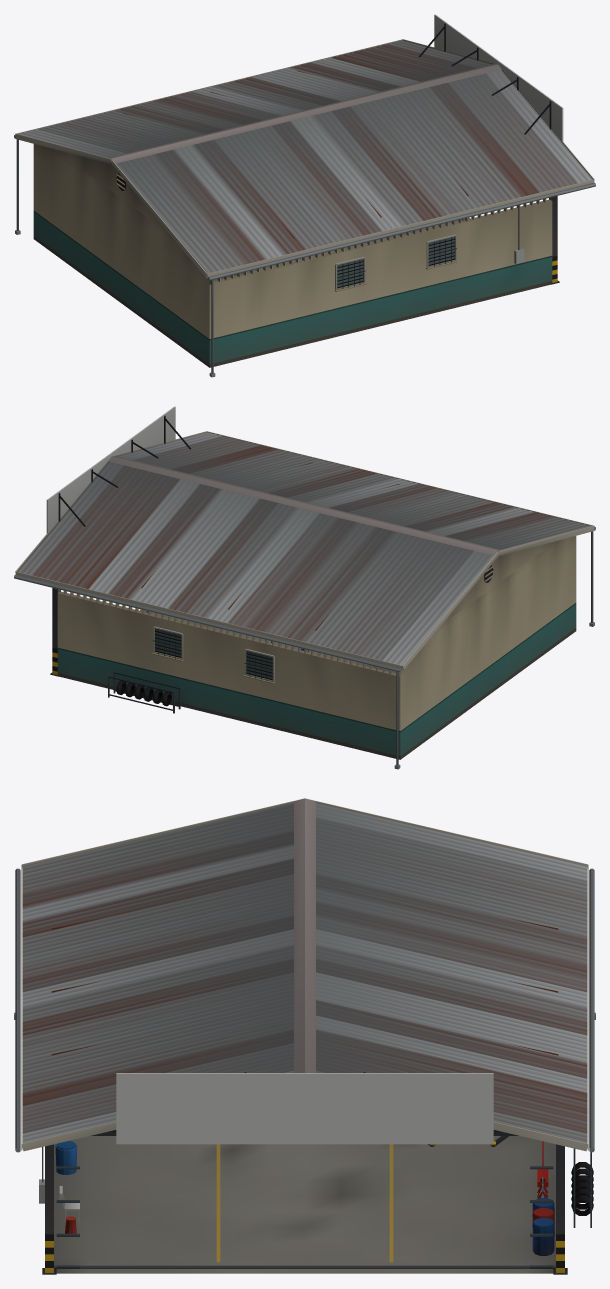
Rendered from kampung-baru-workshop.glb.
3 views of the same model, one above another, from view 1: azimuth 30°, elevation 25°; view 2: azimuth 150°, elevation 25°; view 3: azimuth 270°, elevation 25° (orthographic). The views are drawn at different scales.
Parts seen in each view (by area): view 1: bengkel; view 2: bengkel; view 3: bengkel.
Boxes of the visible parts, x1=… form: bengkel: x1=14, y1=14, x2=595, y2=377; bengkel: x1=14, y1=406, x2=595, y2=769; bengkel: x1=14, y1=798, x2=595, y2=1274.
Bounding box in the file's own units: 17.85 × 6.6 × 15.66.
